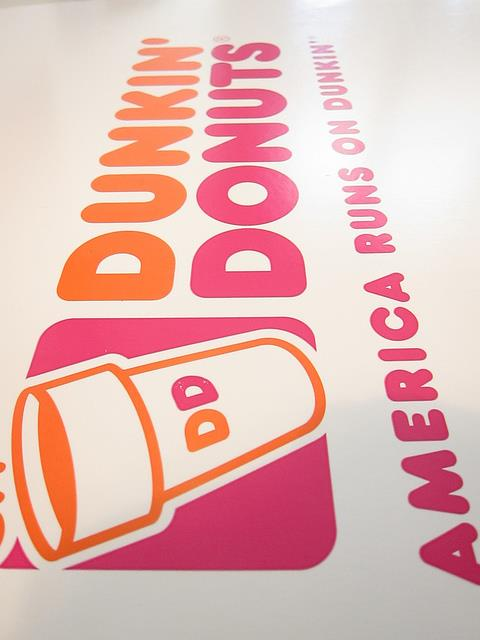Dunkin_Donuts: (2, 35, 348, 578)
